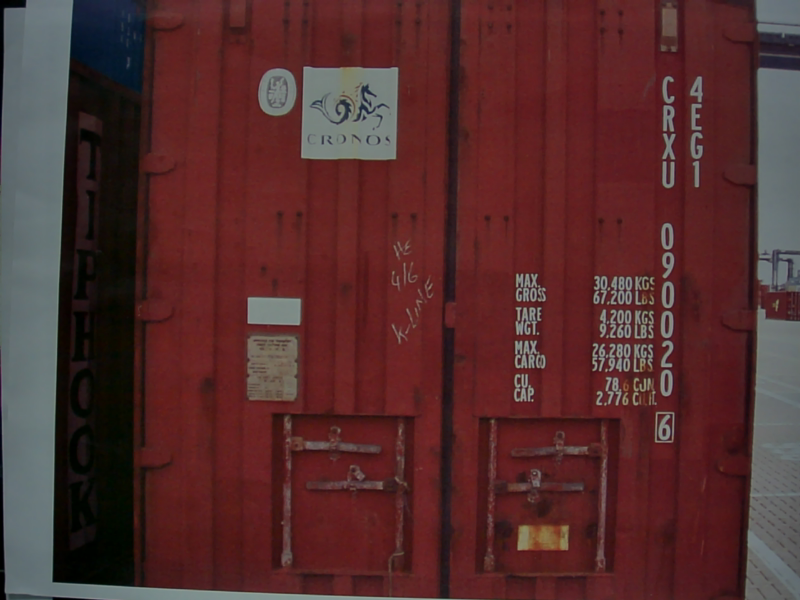container_door: (131, 5, 763, 582)
